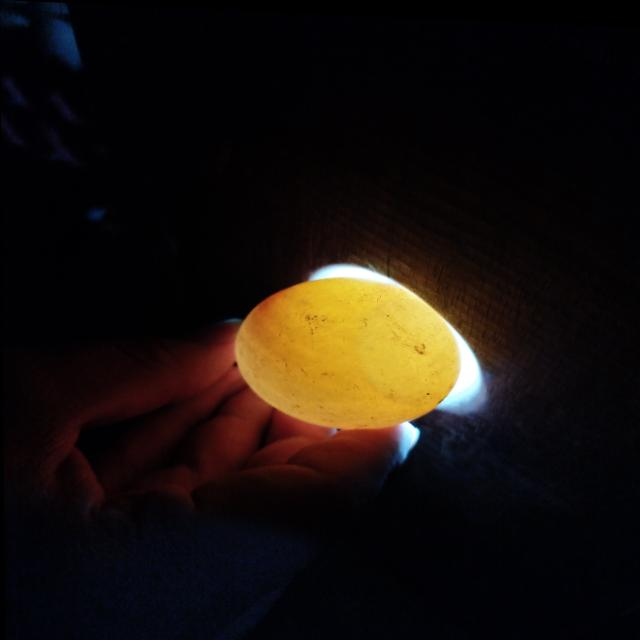Camara de Ar: (360, 297, 458, 397)
